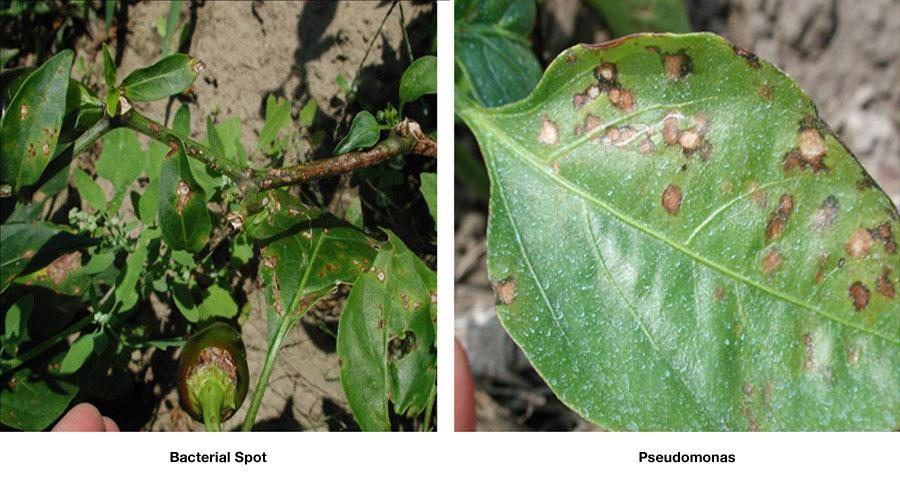Bell_pepper leaf: (476, 21, 900, 430), (335, 225, 438, 436), (258, 212, 384, 331), (1, 50, 78, 208), (151, 135, 218, 263), (113, 49, 212, 113)
